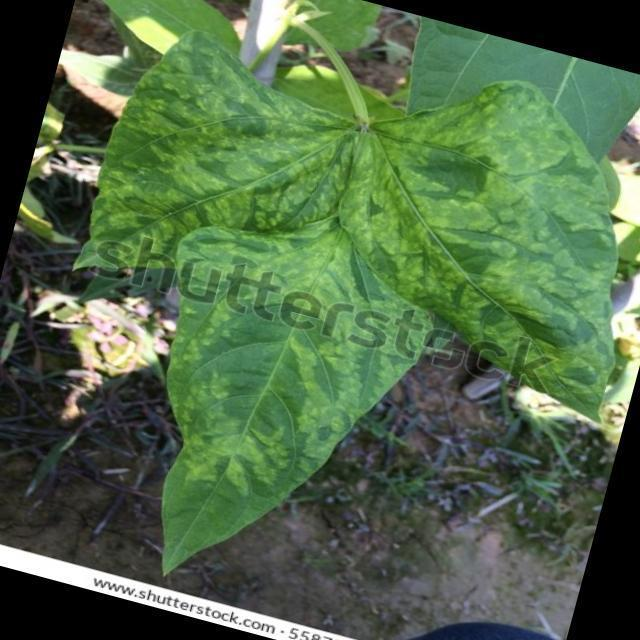Mosaic Virus: (316, 67, 640, 390), (132, 218, 426, 540), (63, 28, 364, 316)
